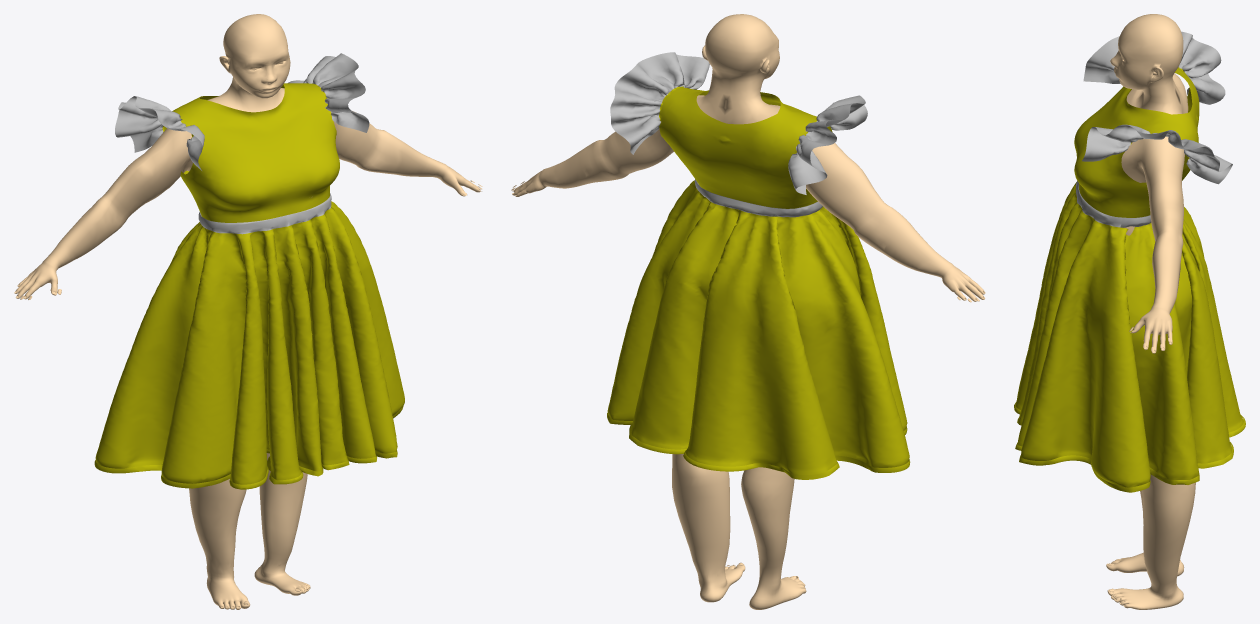
Rendered from dress10.glb.
3 views of the same model, side by side, from view 1: azimuth 30°, elevation 25°; view 2: azimuth 150°, elevation 25°; view 3: azimuth 270°, elevation 25° (orthographic).
Parts seen in each view (by area): view 1: PinkDrees#14 (OBJ), Body; view 2: PinkDrees#14 (OBJ), Body; view 3: PinkDrees#14 (OBJ), Body.
Boxes of the visible parts, x1,y1,x2,y2 form: PinkDrees#14 (OBJ): (94, 53, 404, 489); Body: (14, 14, 481, 609); PinkDrees#14 (OBJ): (607, 52, 910, 479); Body: (512, 14, 985, 609); PinkDrees#14 (OBJ): (1014, 31, 1245, 492); Body: (1106, 14, 1195, 609).
Bounding box in the file's own units: 1.59 × 1.88 × 0.6849.
